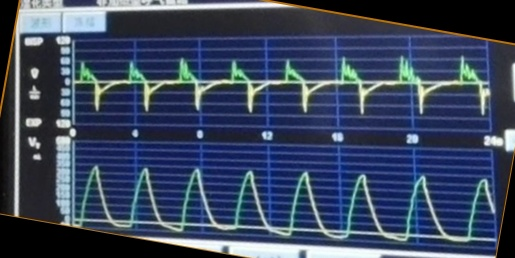Accumulation Flow: (75, 50, 490, 118)
Volume: (75, 161, 494, 243)
